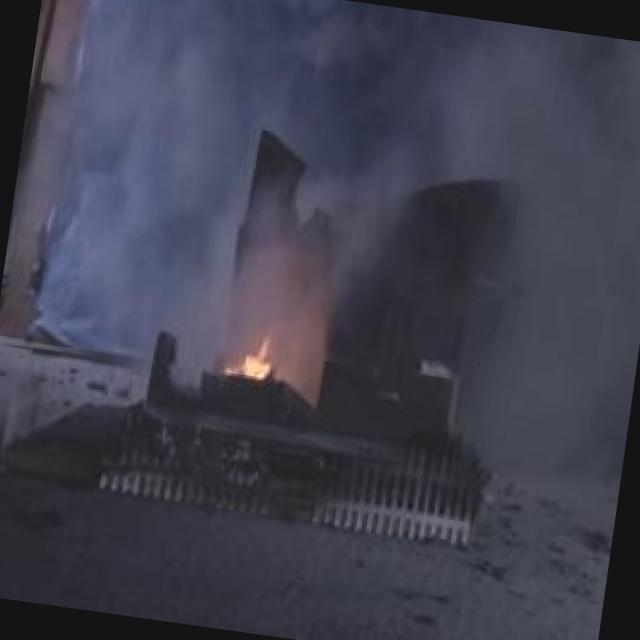fire: (206, 319, 304, 399)
smoke: (72, 0, 629, 351)
